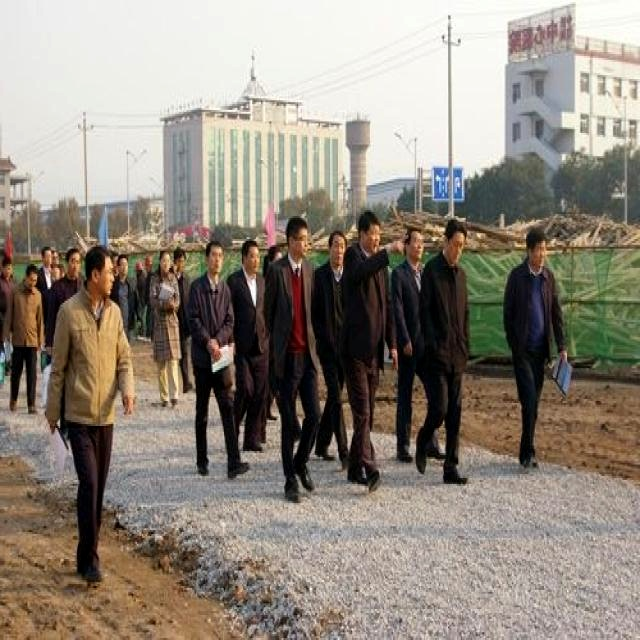Sin_Casco_Mascarrilla: (443, 216, 469, 264)
Sin_Chaleco: (55, 291, 124, 428), (503, 263, 560, 364)
